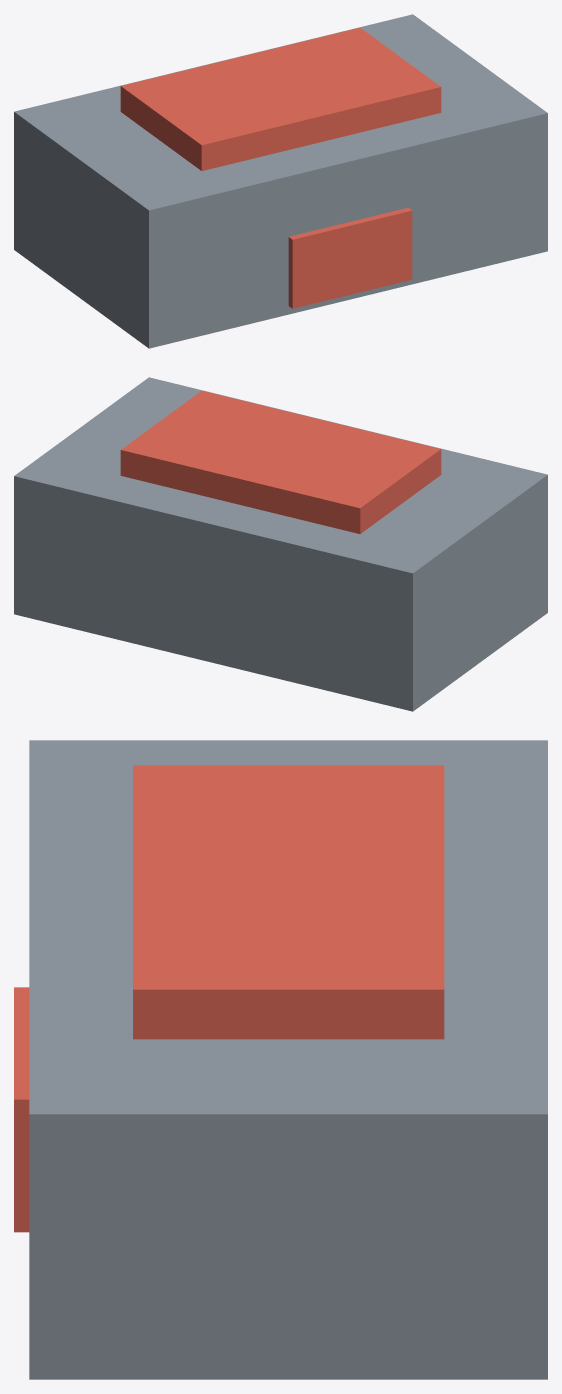
The model's file is SM_Soviet_SU_GromoboyRam_Blockout.fbx.
3 views of the same model, one above another, from view 1: azimuth 30°, elevation 25°; view 2: azimuth 150°, elevation 25°; view 3: azimuth 270°, elevation 25° (orthographic). The views are drawn at different scales.
Parts seen in each view (by area): view 1: MainBuilding, RoofStructure, EntranceGate; view 2: MainBuilding, RoofStructure; view 3: MainBuilding, RoofStructure, EntranceGate.
Boxes of the visible parts, x1=… form: MainBuilding: x1=14, y1=14, x2=547, y2=348; RoofStructure: x1=120, y1=27, x2=441, y2=170; EntranceGate: x1=288, y1=207, x2=412, y2=308; MainBuilding: x1=14, y1=377, x2=547, y2=711; RoofStructure: x1=120, y1=390, x2=441, y2=533; MainBuilding: x1=29, y1=740, x2=547, y2=1379; RoofStructure: x1=133, y1=765, x2=444, y2=1039; EntranceGate: x1=14, y1=987, x2=29, y2=1232.
Size of the model in its own units: 580 by 228 by 350.
